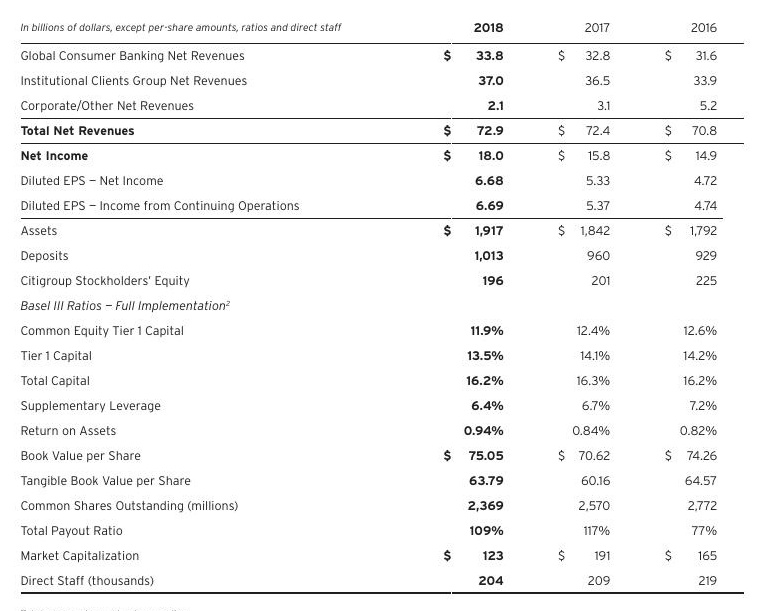table: (0, 0, 761, 611)
